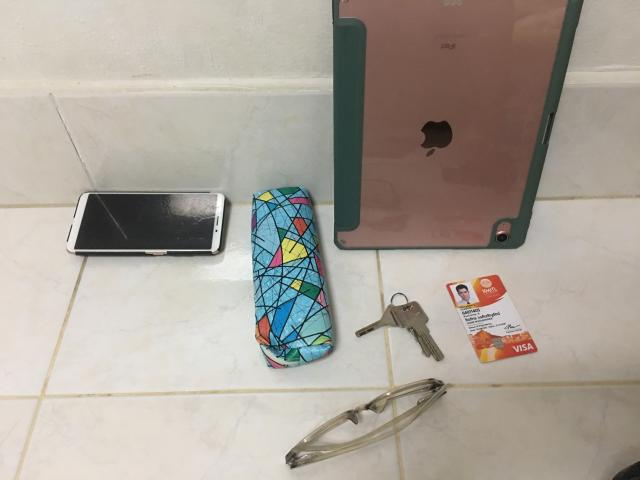Glasses: (286, 379, 450, 468)
Keys: (355, 295, 444, 360)
Mobile phone: (66, 192, 225, 255)
